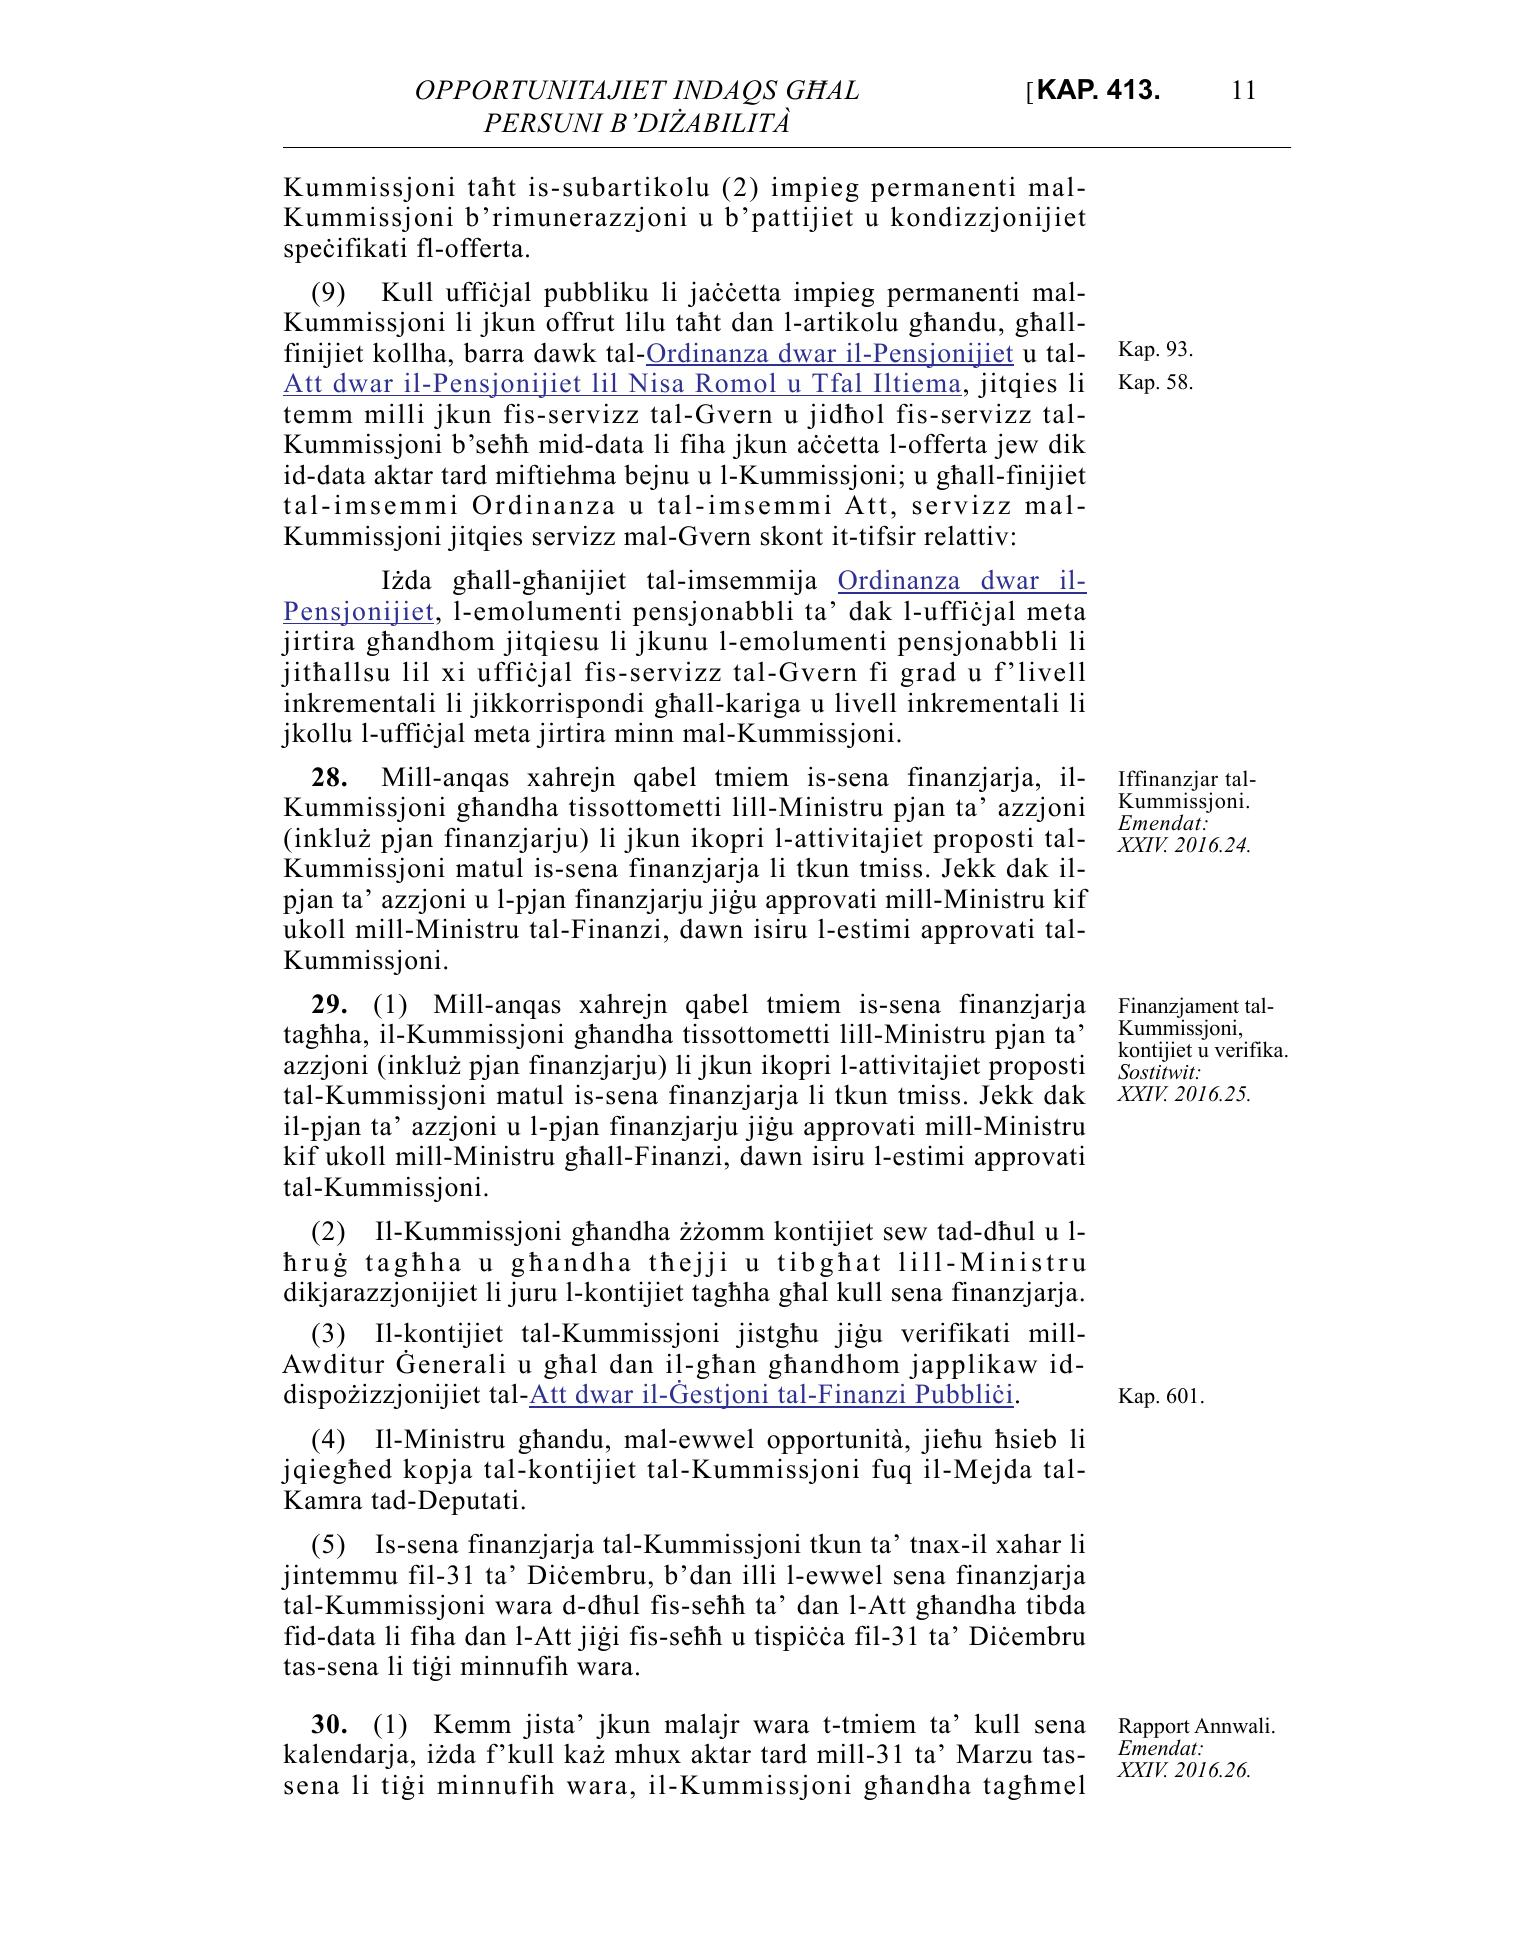text: (264, 160, 1100, 1818)
